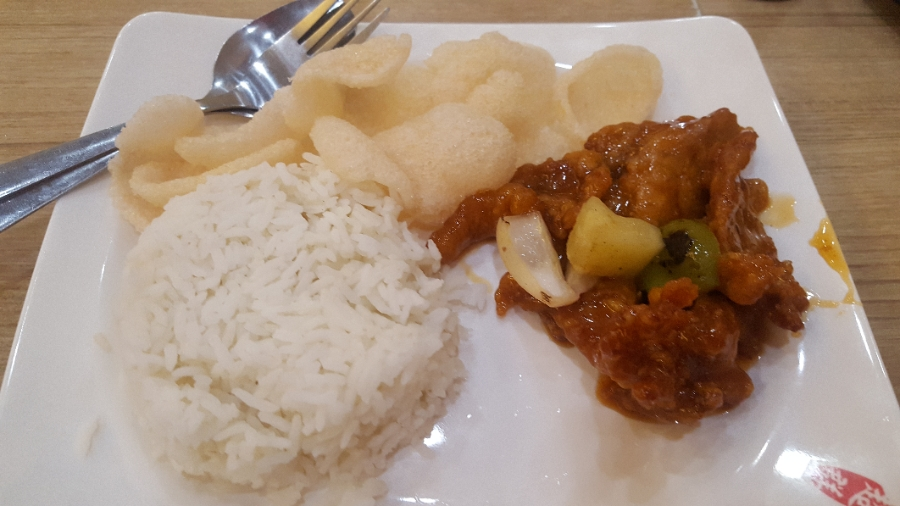meatballs: (552, 155, 773, 355)
plain rice: (154, 192, 404, 442)
